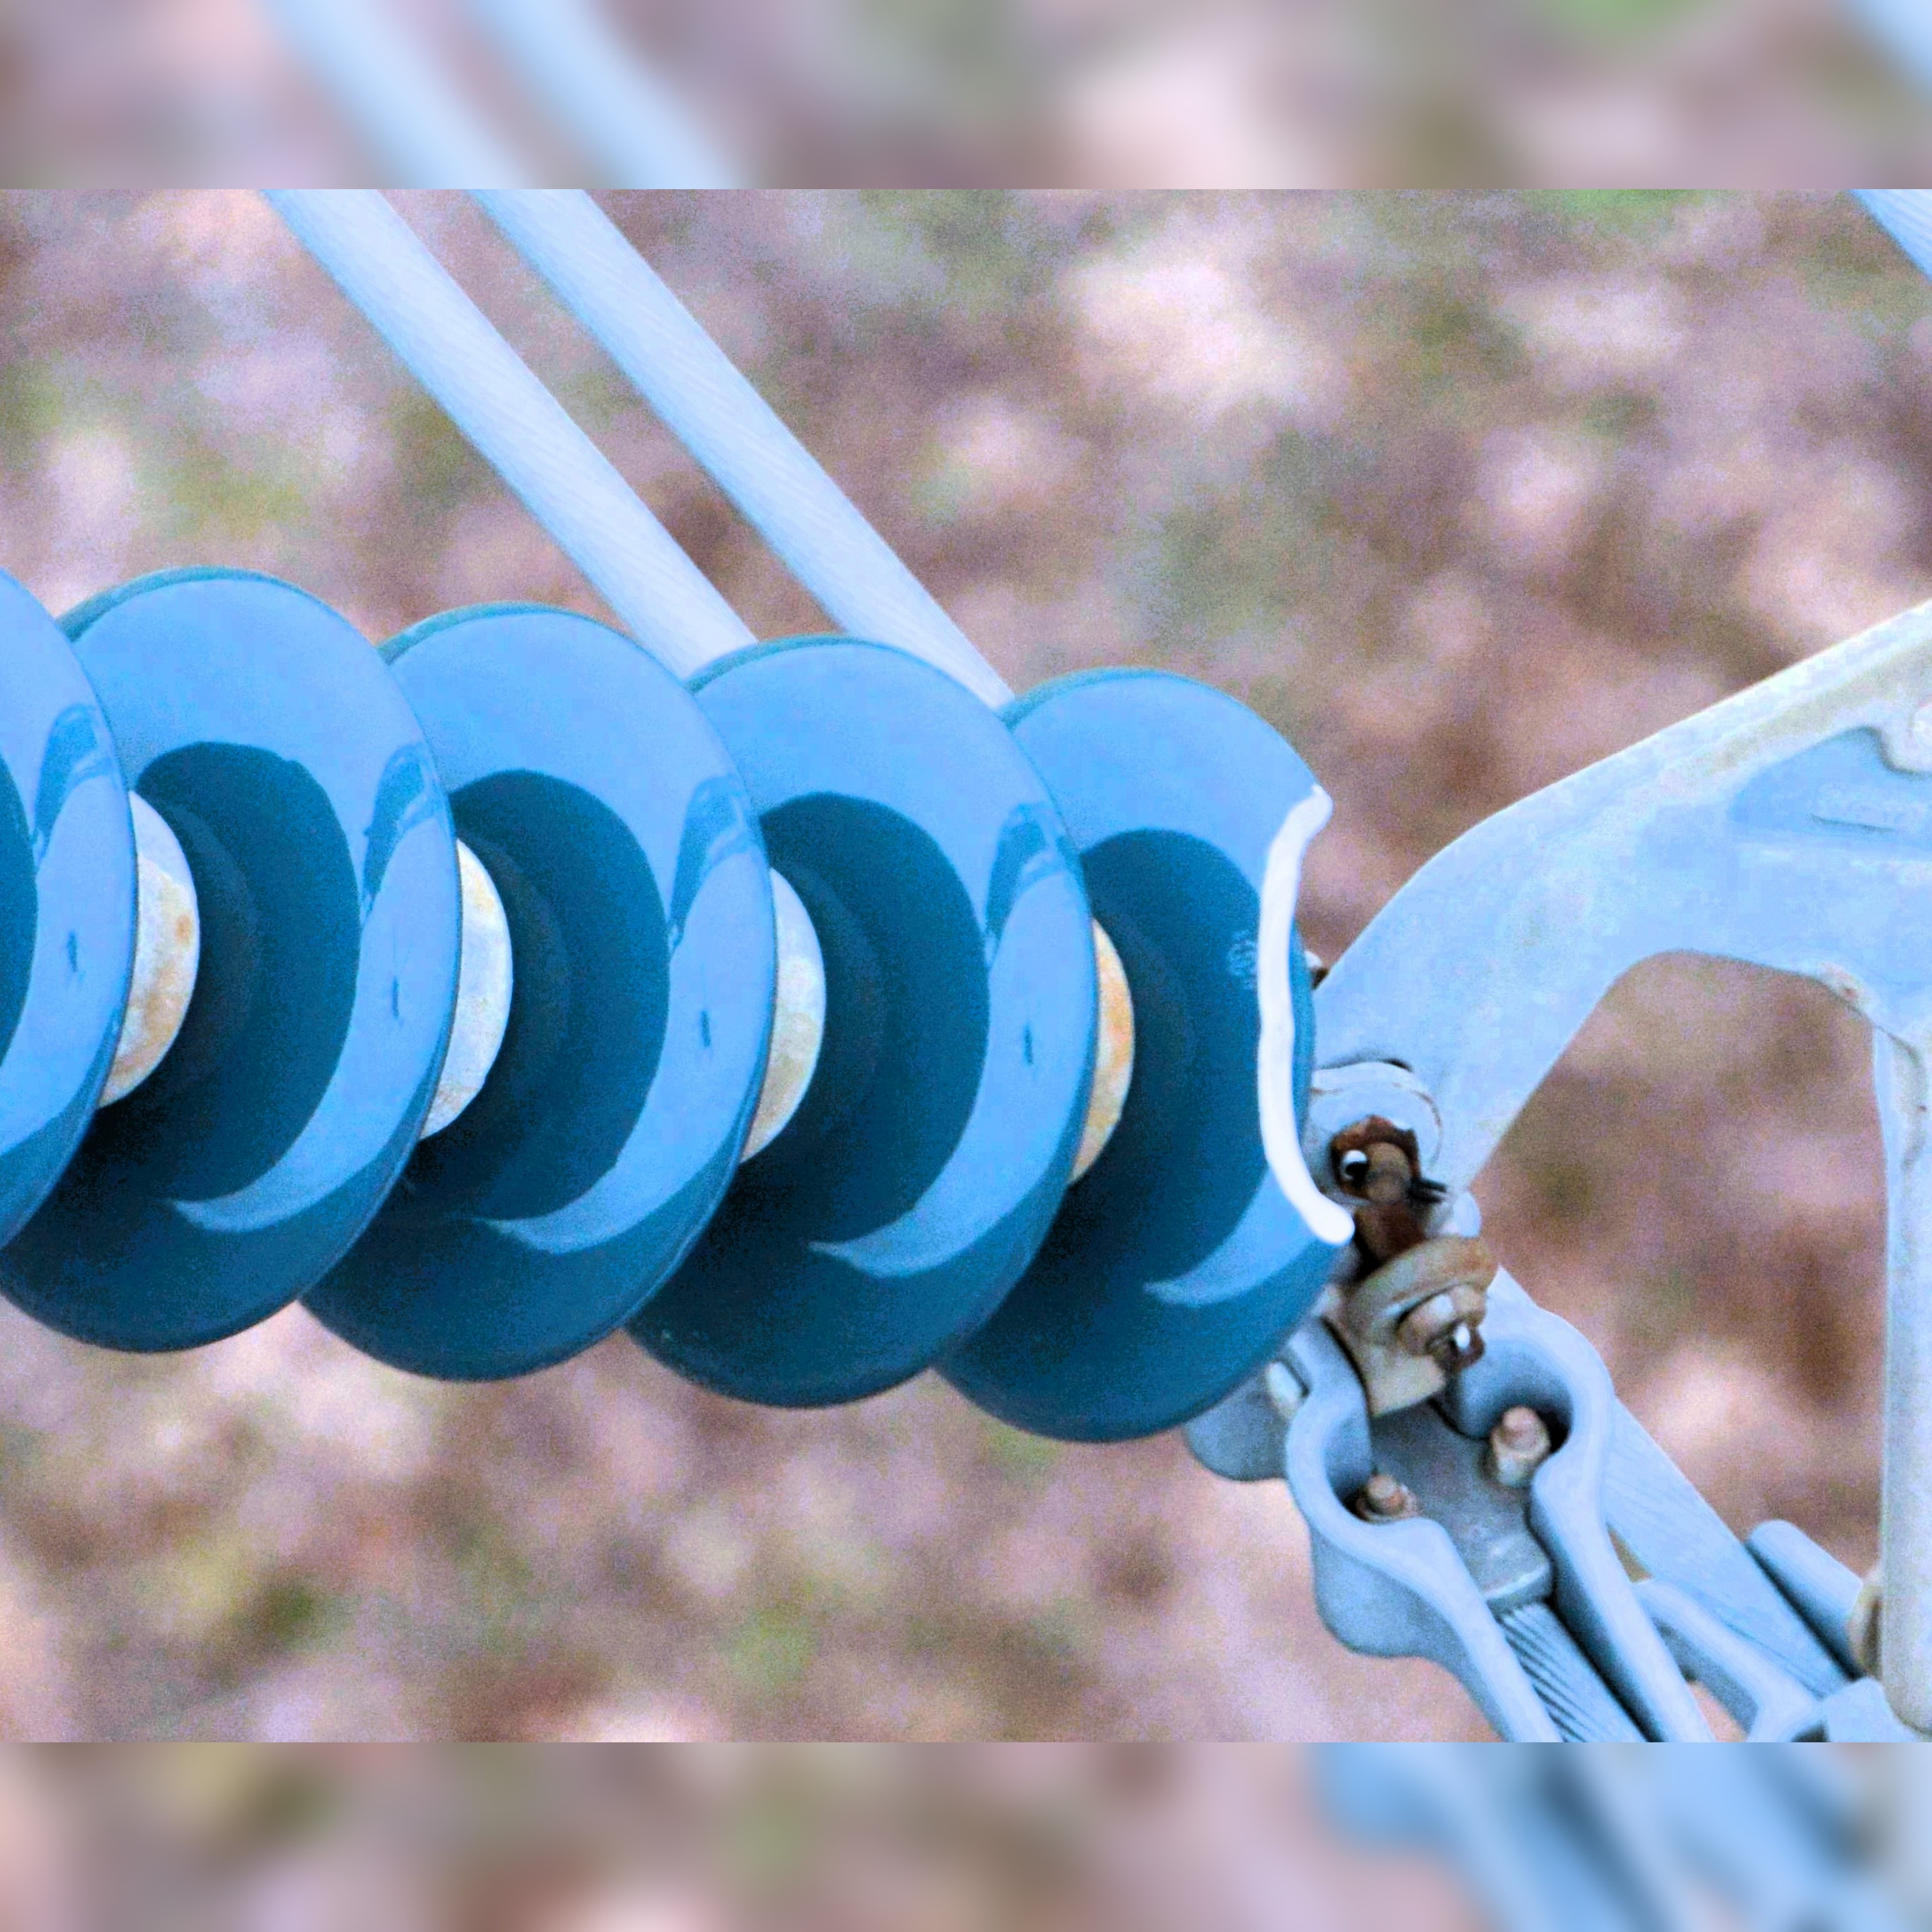insulator breakage: (911, 660, 1378, 1463)
